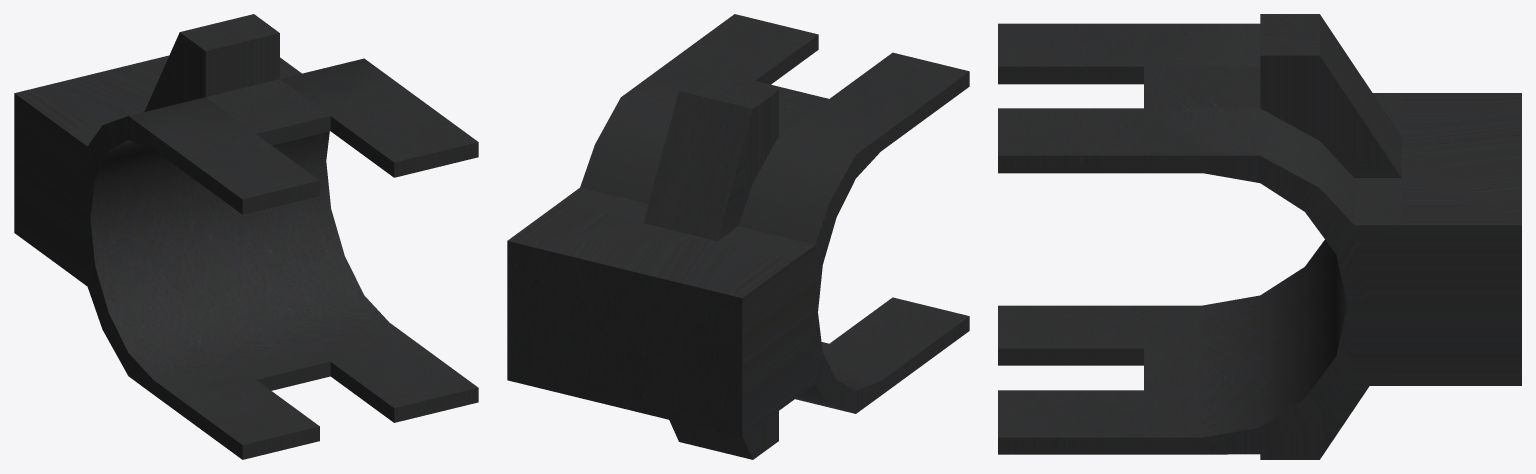
The model's file is Swivel_Mount.dae.
The picture shows the model from 3 angles, left to right: view 1: azimuth 30°, elevation 25°; view 2: azimuth 150°, elevation 25°; view 3: azimuth 270°, elevation 25°; orthographic projection. The views are drawn at different scales.
Parts seen in each view (by area): view 1: Swivel_Mount; view 2: Swivel_Mount; view 3: Swivel_Mount.
Part boxes in pixels (x1=…): Swivel_Mount: x1=14, y1=14, x2=478, y2=459; Swivel_Mount: x1=507, y1=14, x2=969, y2=459; Swivel_Mount: x1=998, y1=14, x2=1521, y2=459.
Bounding box in the file's own units: 0.0201 × 0.0337 × 0.0287.
Materials: 1 (1 with a texture image).
